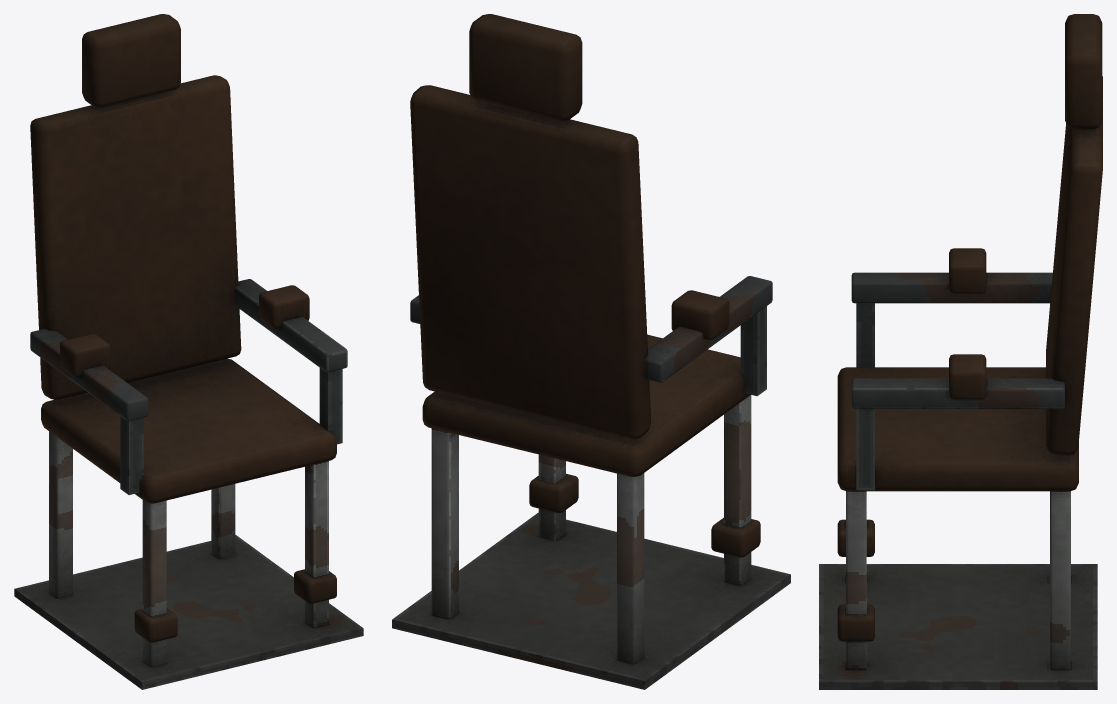
Rendered from chair.glb.
3 renders of one model, left to right at view 1: azimuth 30°, elevation 25°; view 2: azimuth 150°, elevation 25°; view 3: azimuth 270°, elevation 25°, orthographic. The views are drawn at different scales.
Parts seen in each view (by area): view 1: chair; view 2: chair; view 3: chair.
Part boxes in pixels (x1,y1,x2,y2): chair: (14,14,363,689); chair: (392,14,790,689); chair: (819,14,1102,689).
Size of the model in its own units: 0.64 by 1.42 by 0.6113.
1 material, 1 textured.
